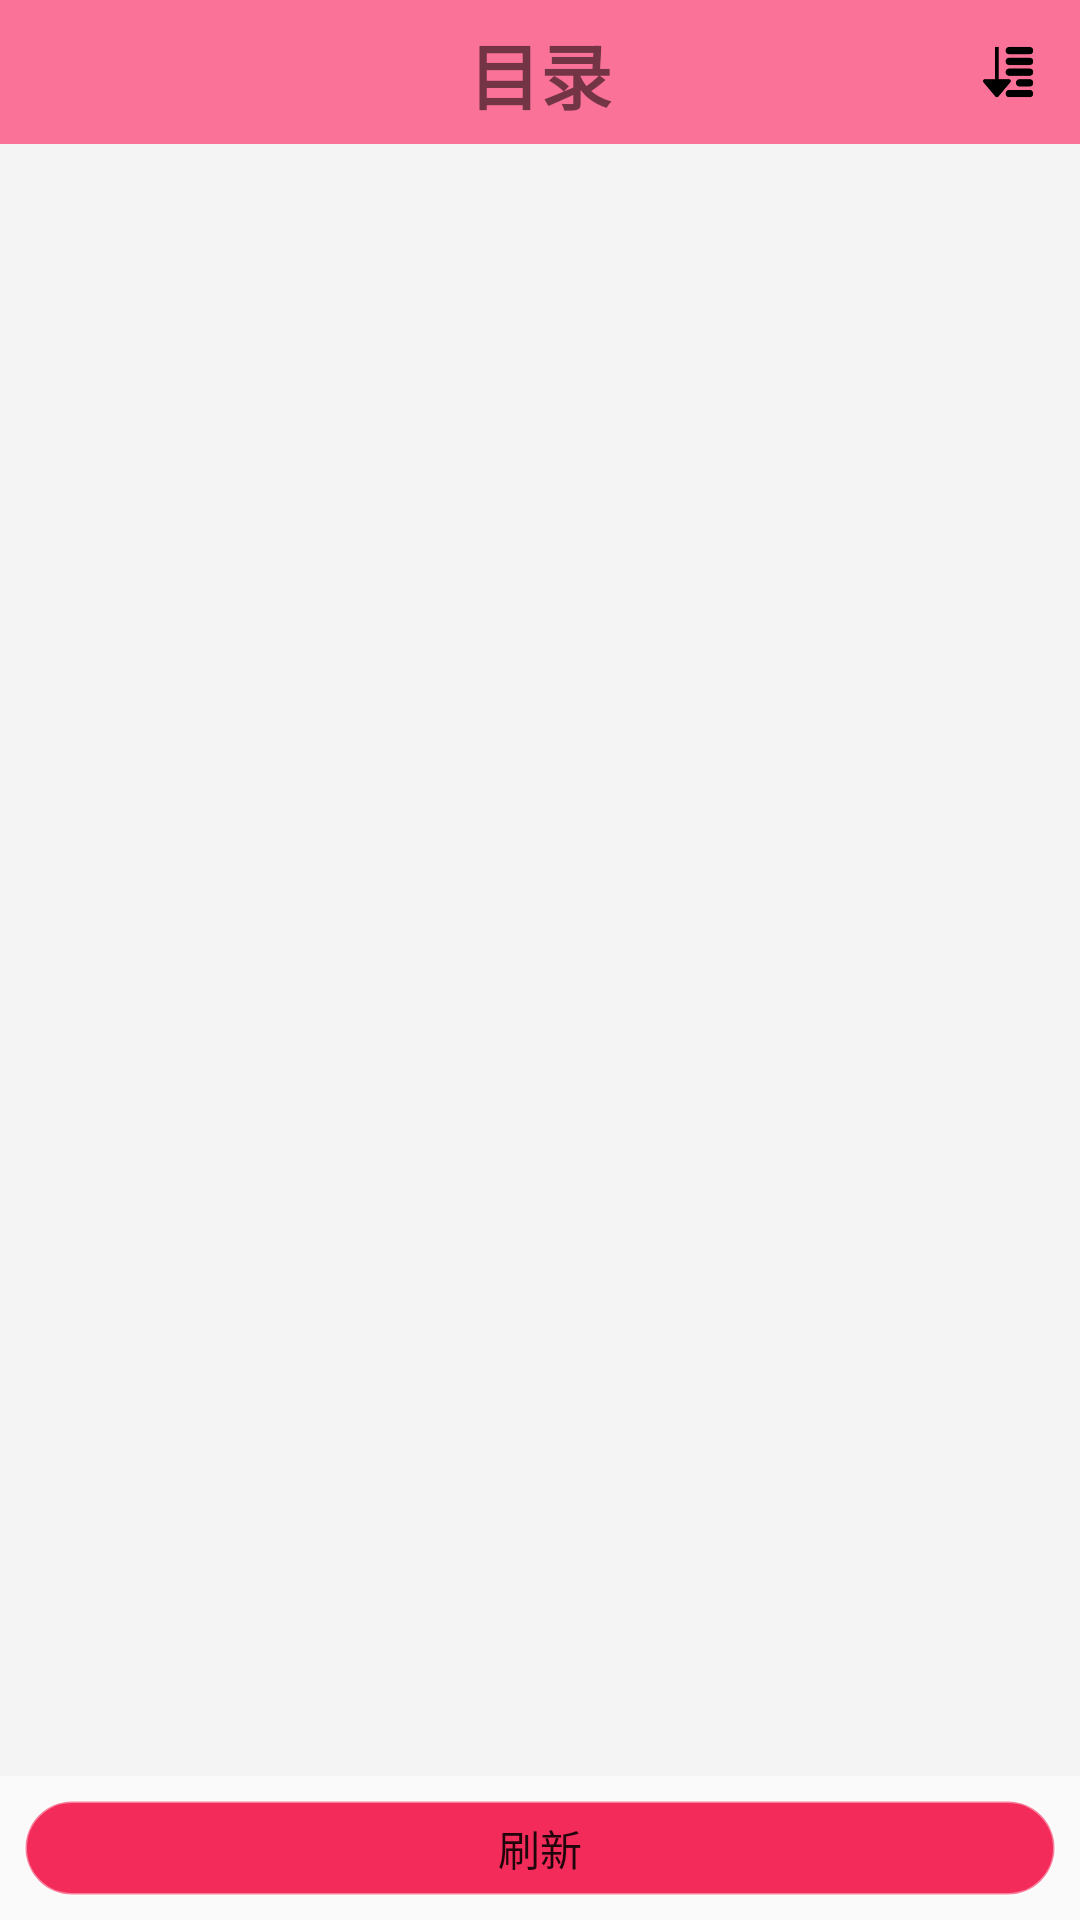

Screen size 1080px x 1920px. Icon name, then its box in pixels as (x1, y1, x2, y2):
sort: (983, 47, 1033, 97)
